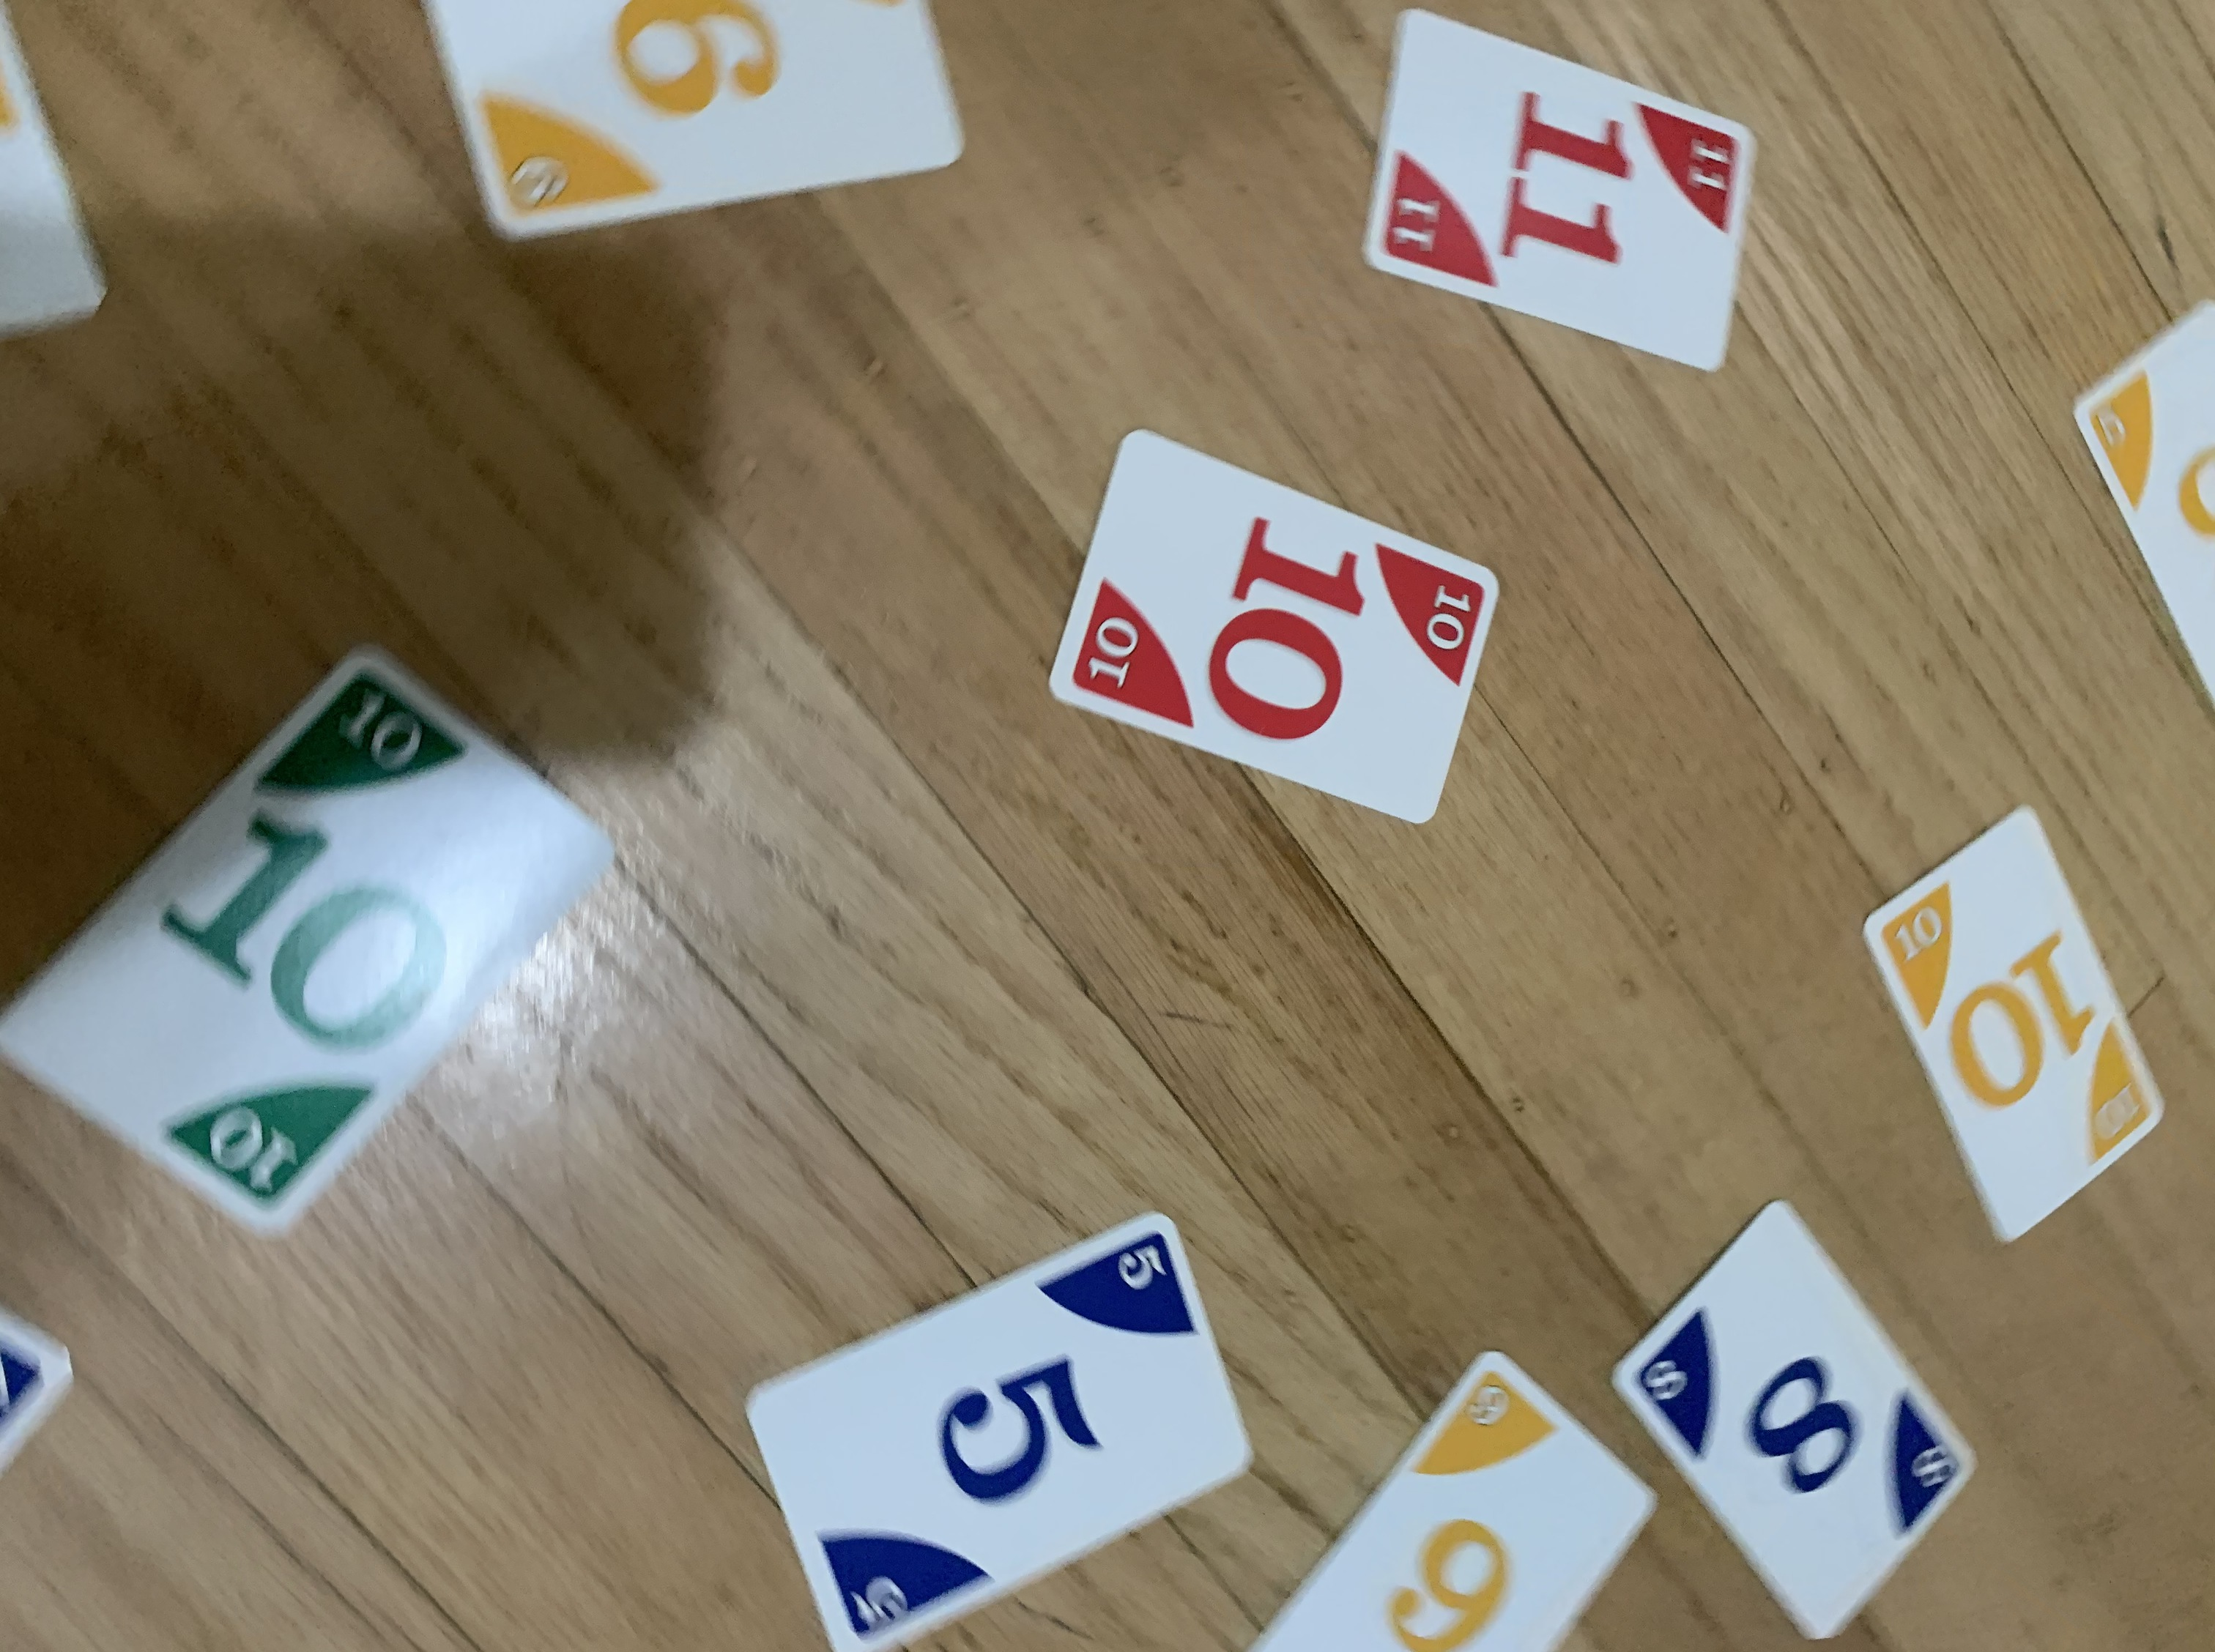eight: (1609, 1189, 2003, 1649)
eleven: (1340, 3, 1760, 394)
five: (750, 1204, 1255, 1633)
nine: (1239, 1336, 1661, 1652)
ten: (14, 633, 625, 1239), (1033, 418, 1510, 840), (1856, 793, 2163, 1241)
